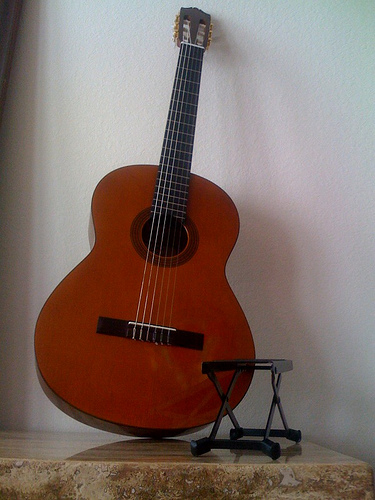guitar: (32, 5, 256, 439)
